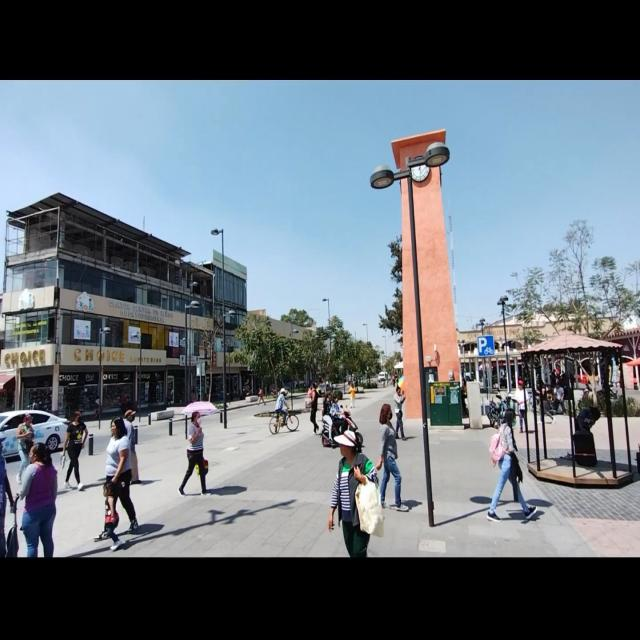adult: (327, 431, 378, 557), (487, 408, 538, 521), (100, 418, 138, 538), (19, 443, 57, 556), (376, 402, 410, 514), (178, 411, 212, 496), (62, 409, 88, 492), (17, 414, 35, 486), (124, 410, 140, 484), (323, 393, 343, 443), (514, 380, 529, 433), (393, 386, 407, 441), (307, 382, 321, 435), (275, 388, 289, 432)
child: (102, 479, 124, 551)
